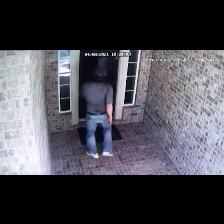person: (83, 67, 113, 158)
